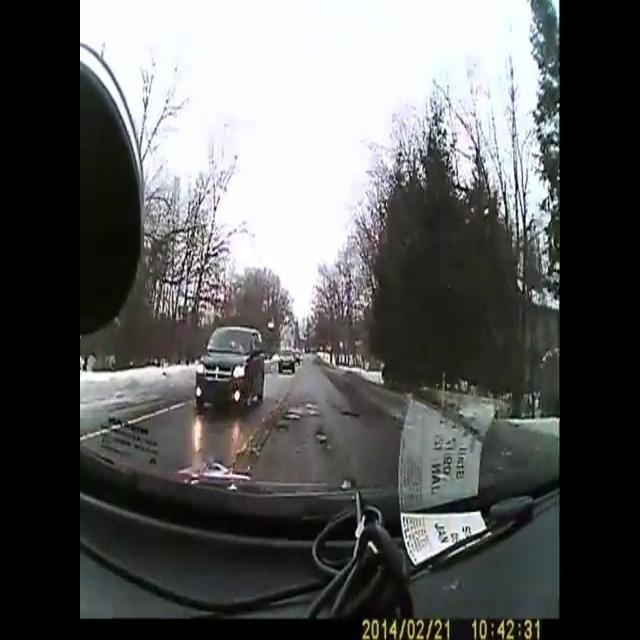pothole: (270, 391, 317, 443), (311, 419, 334, 462), (338, 400, 360, 428)
